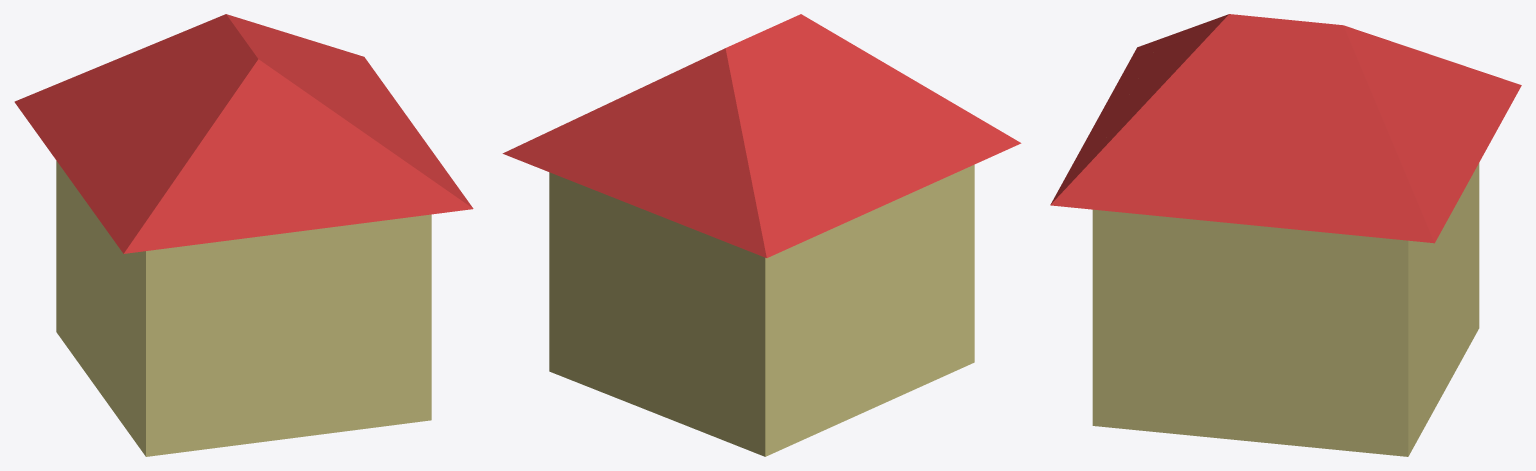
The picture shows the model from 3 angles, left to right: view 1: azimuth 30°, elevation 25°; view 2: azimuth 150°, elevation 25°; view 3: azimuth 270°, elevation 25°; orthographic projection. The views are drawn at different scales.
Visible parts, largest first — view 1: group_5, group_3, group_4; view 2: group_5, group_3, group_4; view 3: group_5, group_3, group_4.
Boxes of the visible parts, x1,y1,x2,y2 form: group_5: [56, 161, 431, 456]; group_3: [19, 14, 472, 253]; group_4: [14, 83, 473, 253]; group_5: [549, 164, 974, 456]; group_3: [559, 14, 973, 257]; group_4: [502, 111, 1021, 257]; group_5: [1092, 163, 1479, 456]; group_3: [1051, 14, 1521, 243]; group_4: [1050, 39, 1521, 242].
Bounding box in the file's own units: 13.11 × 13.34 × 11.12.
